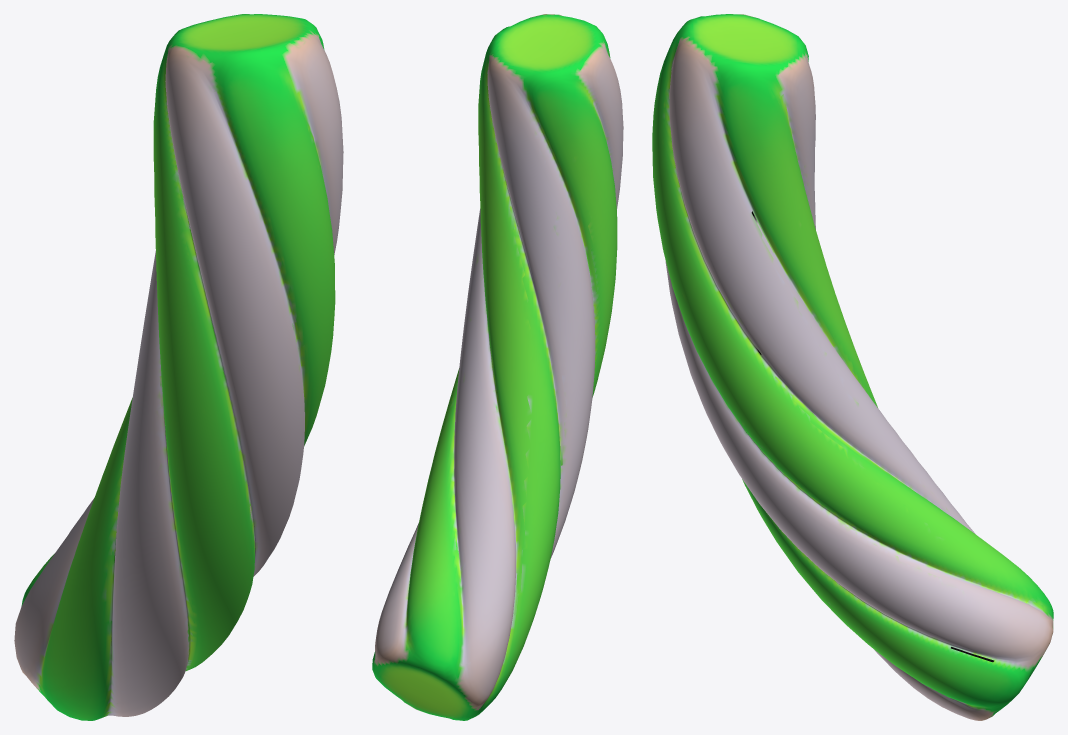
The model's file is twister_005.obj.
The picture shows the model from 3 angles, left to right: view 1: azimuth 30°, elevation 25°; view 2: azimuth 150°, elevation 25°; view 3: azimuth 270°, elevation 25°; orthographic projection. The views are drawn at different scales.
Parts seen in each view (by area): view 1: twister.005; view 2: twister.005; view 3: twister.005.
Boxes of the visible parts, x1,y1,x2,y2 form: twister.005: (14, 14, 343, 720); twister.005: (372, 14, 623, 720); twister.005: (652, 14, 1053, 720).
Bounding box in the file's own units: 0.488 × 2.23 × 1.2.
Materials: 1 (1 with a texture image).
